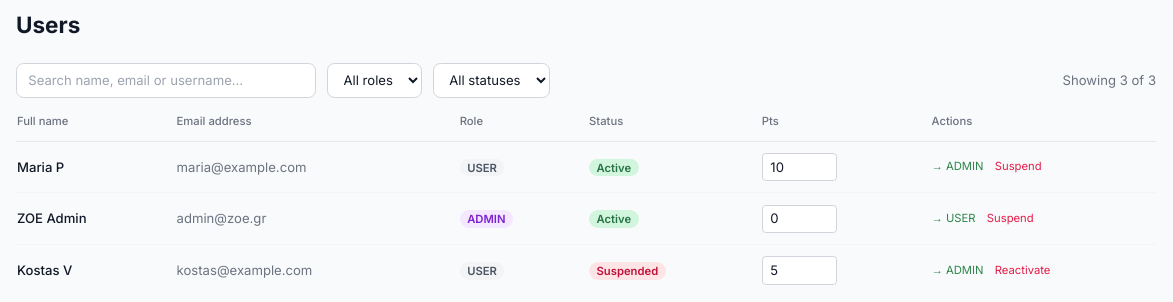
ManageUsersPage search & filters › filters by status (suspended only)
This screenshot has width=1173, height=302.
Expected: the text "Maria P" is shown, [16,141,176,193]
Select "Suspended" in the dropdown named "Status" at (491, 80), box [433,63,550,98]
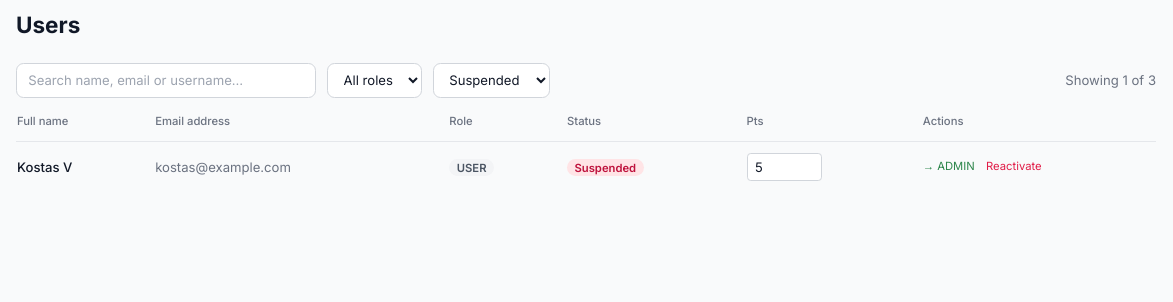
Expected: the text "Kostas V" is shown, [16,141,154,192]
Result: the text "Maria P" is gone
